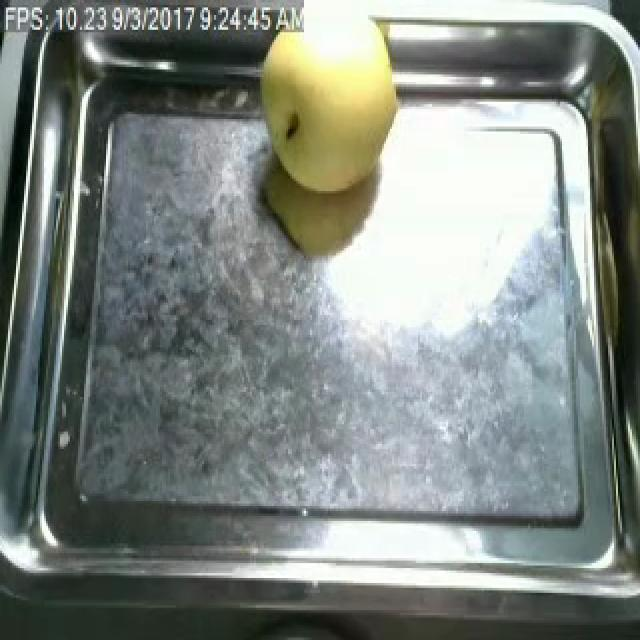Fruit: (248, 12, 410, 201)
